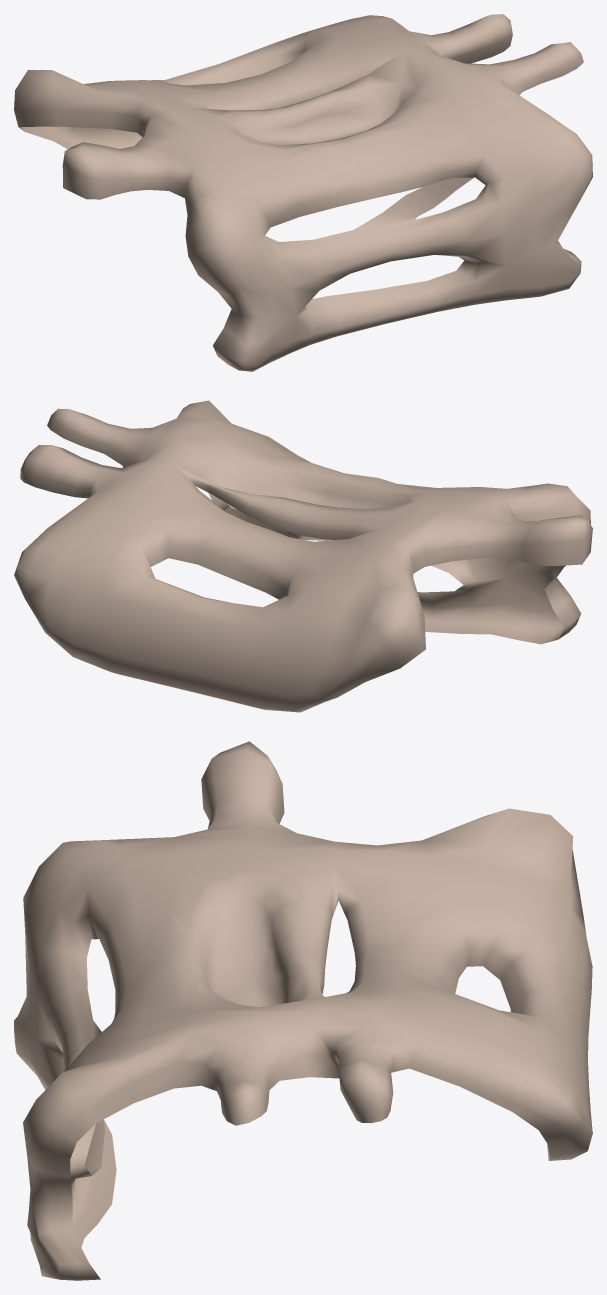
3 views of the same model, one above another, from view 1: azimuth 30°, elevation 25°; view 2: azimuth 150°, elevation 25°; view 3: azimuth 270°, elevation 25° (orthographic). The views are drawn at different scales.
Visible parts, largest first — view 1: link_element; view 2: link_element; view 3: link_element.
Part boxes in pixels (bbox=[...]): link_element: bbox=[14, 14, 592, 371]; link_element: bbox=[14, 400, 592, 712]; link_element: bbox=[14, 741, 592, 1280].
Bounding box in the file's own units: 132 × 46.97 × 94.69.
